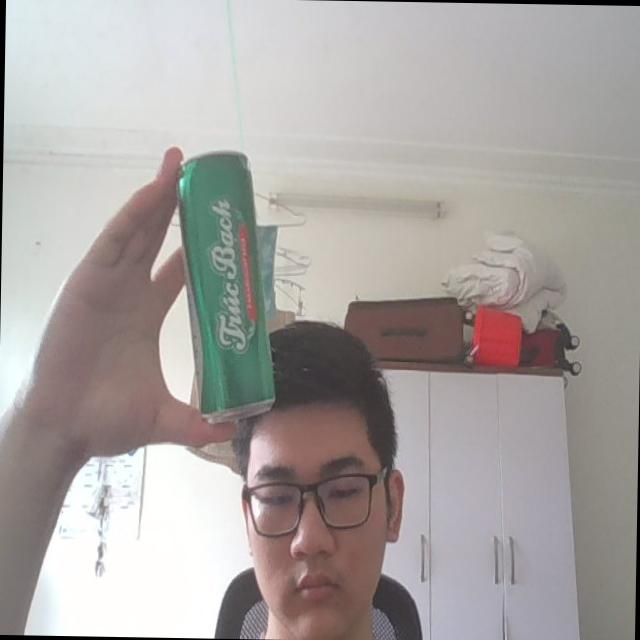Bia-Truc-Bach: (168, 144, 282, 424)
